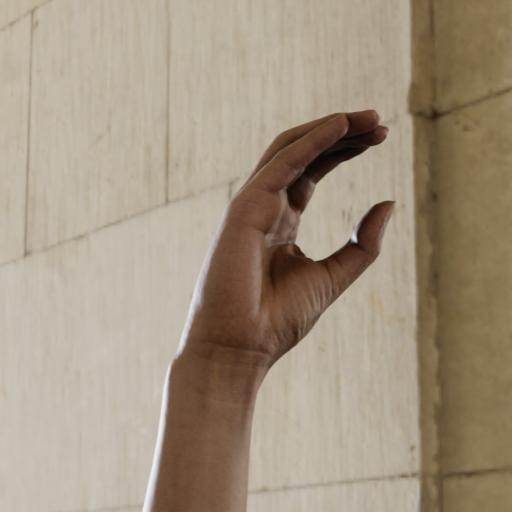C: (179, 99, 413, 361)
